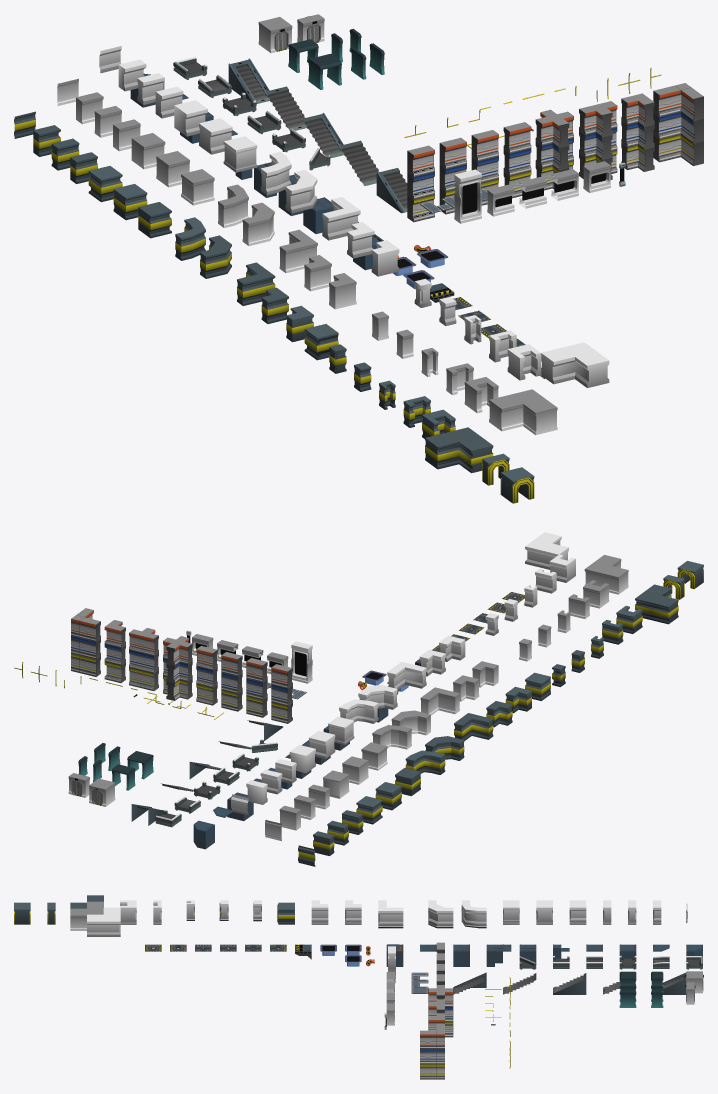
Rendered from ModuloGradient02.fbx.
The picture shows the model from 3 angles, top to bottom: view 1: azimuth 30°, elevation 25°; view 2: azimuth 150°, elevation 25°; view 3: azimuth 270°, elevation 25°; orthographic projection. The views are drawn at different scales.
Visible parts, largest first — view 1: ParedMitadEsqL1x1, ParedAltaEsqL1x1, SubParedEsqL1x1, Box022, ParedMitad2Caras009, Escalera01, Box023, Box030, ParedBajaEsqExt1x1Rect, Box014, ParedAltaEsqExt1x1Rect, Box024 (+45 smaller); view 2: SubParedEsqL1x1, ParedMitadEsqL1x1, ParedAltaEsqL1x1, ParedBajaEsqExt1x1Rect, ParedAltaEsqExt1x1Rect, ParedEsqExt1x1Rect, ParedMitad2Caras009, ParedBajaEsqExt1x1Curva01, ParedAltaEsqExt1x1Curva01, Box022, ParedEsqExt1x1Curva01, Box023 (+32 smaller); view 3: ParedAltaEsqL1x1, ParedMitadEsqL1x1, Box022, ParedEsqExt1x1Rect, ParedEsqExt1x1Curva02, ParedEsqExt1x1Curva01, EscaleraIzq01, Box023, Escalera01, Pared1x1Esq, ParedBajaEsquinero1x1, Box014 (+12 smaller).
Boxes of the visible parts, x1,y1,x2,y2 form: ParedMitadEsqL1x1: [489, 389, 557, 435]; ParedAltaEsqL1x1: [541, 342, 609, 387]; SubParedEsqL1x1: [425, 427, 493, 473]; Box022: [653, 83, 703, 121]; ParedMitad2Caras009: [454, 169, 481, 223]; Escalera01: [228, 58, 269, 103]; Box023: [535, 109, 573, 147]; Box030: [653, 135, 703, 165]; ParedBajaEsqExt1x1Rect: [237, 262, 275, 305]; Box014: [653, 112, 703, 143]; ParedAltaEsqExt1x1Rect: [279, 229, 317, 273]; Box024: [579, 101, 617, 137]; SubParedEsqL1x1: [635, 584, 678, 624]; ParedMitadEsqL1x1: [584, 555, 628, 594]; ParedAltaEsqL1x1: [525, 532, 568, 569]; ParedBajaEsqExt1x1Rect: [454, 713, 493, 740]; ParedAltaEsqExt1x1Rect: [420, 687, 459, 715]; ParedEsqExt1x1Rect: [387, 661, 426, 689]; ParedMitad2Caras009: [291, 641, 312, 683]; ParedBajaEsqExt1x1Curva01: [405, 750, 445, 774]; ParedAltaEsqExt1x1Curva01: [372, 725, 411, 749]; Box022: [71, 608, 100, 641]; ParedEsqExt1x1Curva01: [339, 699, 378, 723]; Box023: [163, 636, 192, 665]; ParedAltaEsqL1x1: [87, 907, 120, 936]; ParedMitadEsqL1x1: [70, 901, 103, 930]; Box022: [420, 1023, 444, 1049]; ParedEsqExt1x1Rect: [378, 900, 403, 925]; ParedEsqExt1x1Curva02: [428, 900, 453, 925]; ParedEsqExt1x1Curva01: [461, 900, 486, 925]; EscaleraIzq01: [553, 973, 586, 994]; Box023: [428, 985, 453, 1006]; Escalera01: [662, 972, 686, 994]; Pared1x1Esq: [569, 900, 586, 922]; ParedBajaEsquinero1x1: [277, 902, 294, 924]; Box014: [420, 1049, 444, 1064].
Bounding box in the file's own units: 990 × 118 × 1631.
Materials: 6 (3 with a texture image).
